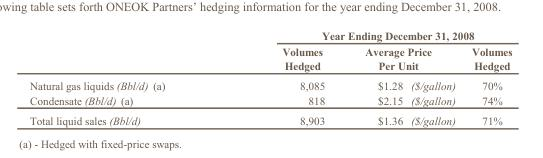table: (29, 29, 511, 126)
table column: (29, 29, 222, 126), (222, 29, 344, 126), (344, 29, 406, 126), (406, 29, 462, 126), (462, 29, 511, 126)
table column header: (29, 29, 511, 92)
table row: (29, 43, 511, 75), (29, 92, 511, 110), (29, 75, 511, 92), (29, 110, 511, 126), (29, 29, 511, 43)
table spanning cell: (29, 29, 222, 92), (222, 43, 344, 92), (222, 29, 511, 43), (344, 43, 462, 75), (462, 43, 511, 92)
